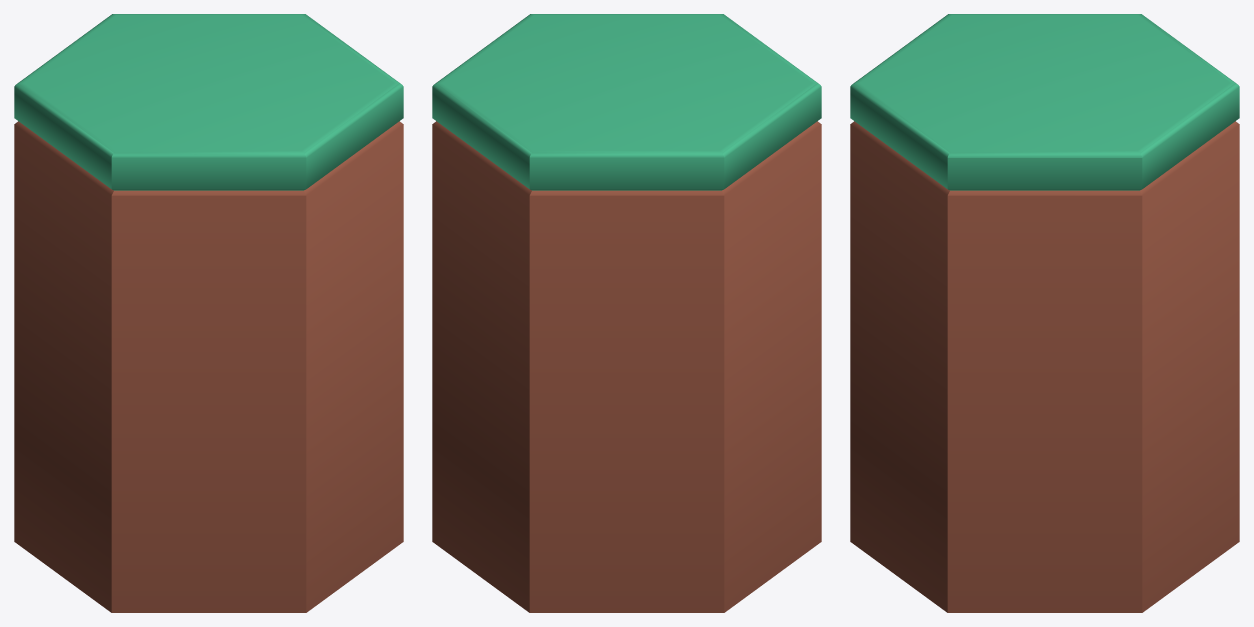
The model's file is tile_base.glb.
The picture shows the model from 3 angles, left to right: view 1: azimuth 30°, elevation 25°; view 2: azimuth 150°, elevation 25°; view 3: azimuth 270°, elevation 25°; orthographic projection.
Parts seen in each view (by area): view 1: hex_forest_detail; view 2: hex_forest_detail; view 3: hex_forest_detail.
Boxes of the visible parts, <box> form: hex_forest_detail: <box>14,14,403,612</box>; hex_forest_detail: <box>432,14,821,612</box>; hex_forest_detail: <box>850,14,1239,612</box>.
Bounding box in the file's own units: 2 × 3 × 2.31.
